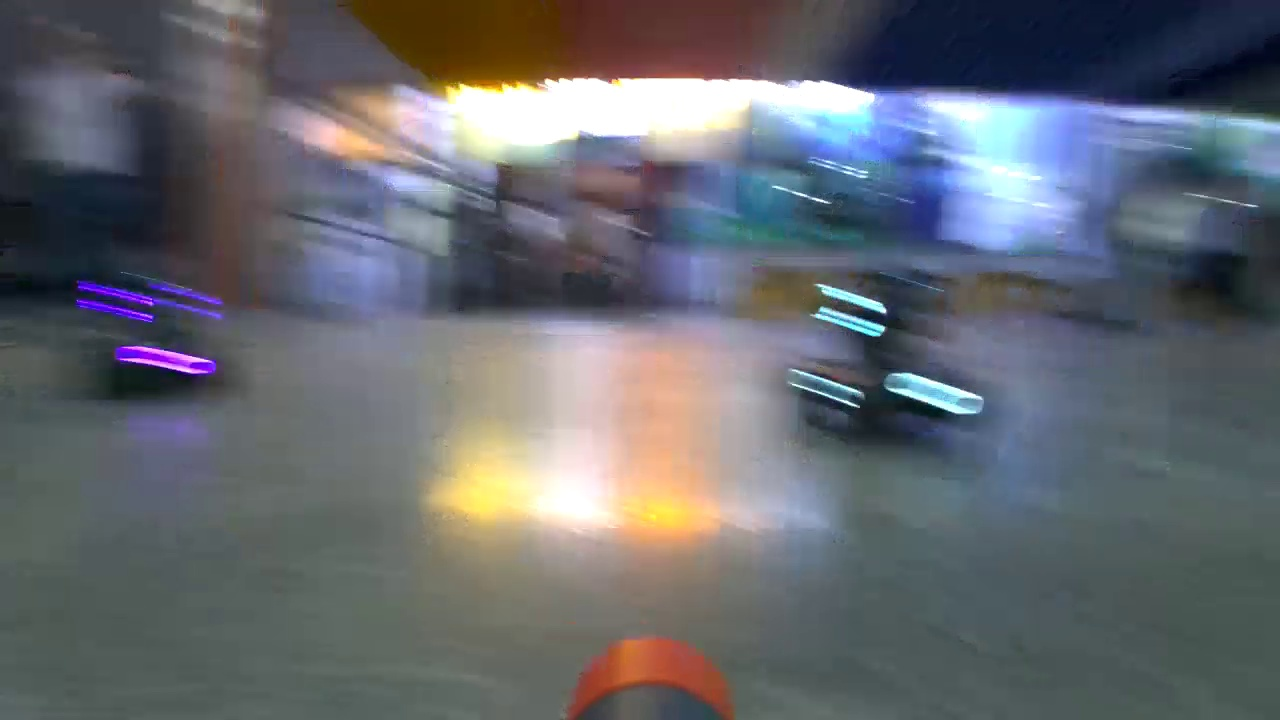robot: (783, 265, 995, 444), (65, 262, 230, 394)
